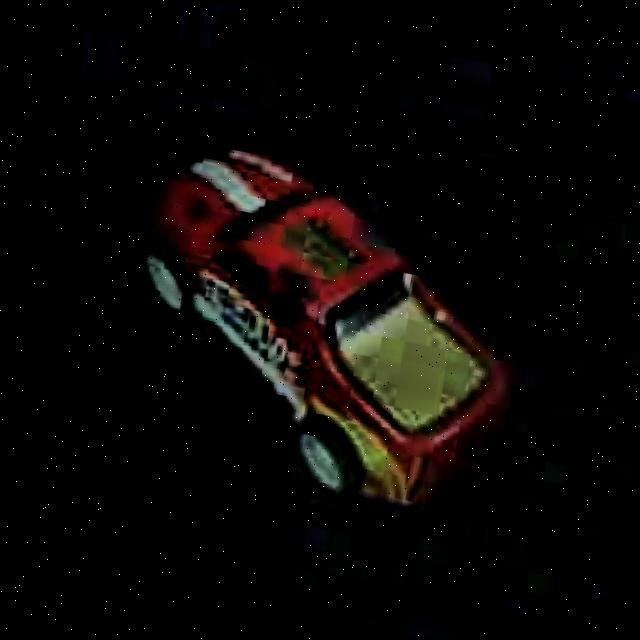car: (100, 122, 548, 537)
